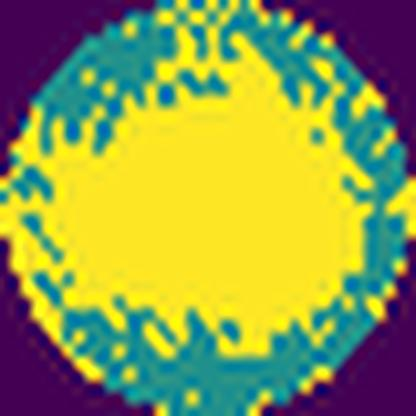Center: (41, 32, 370, 356)
